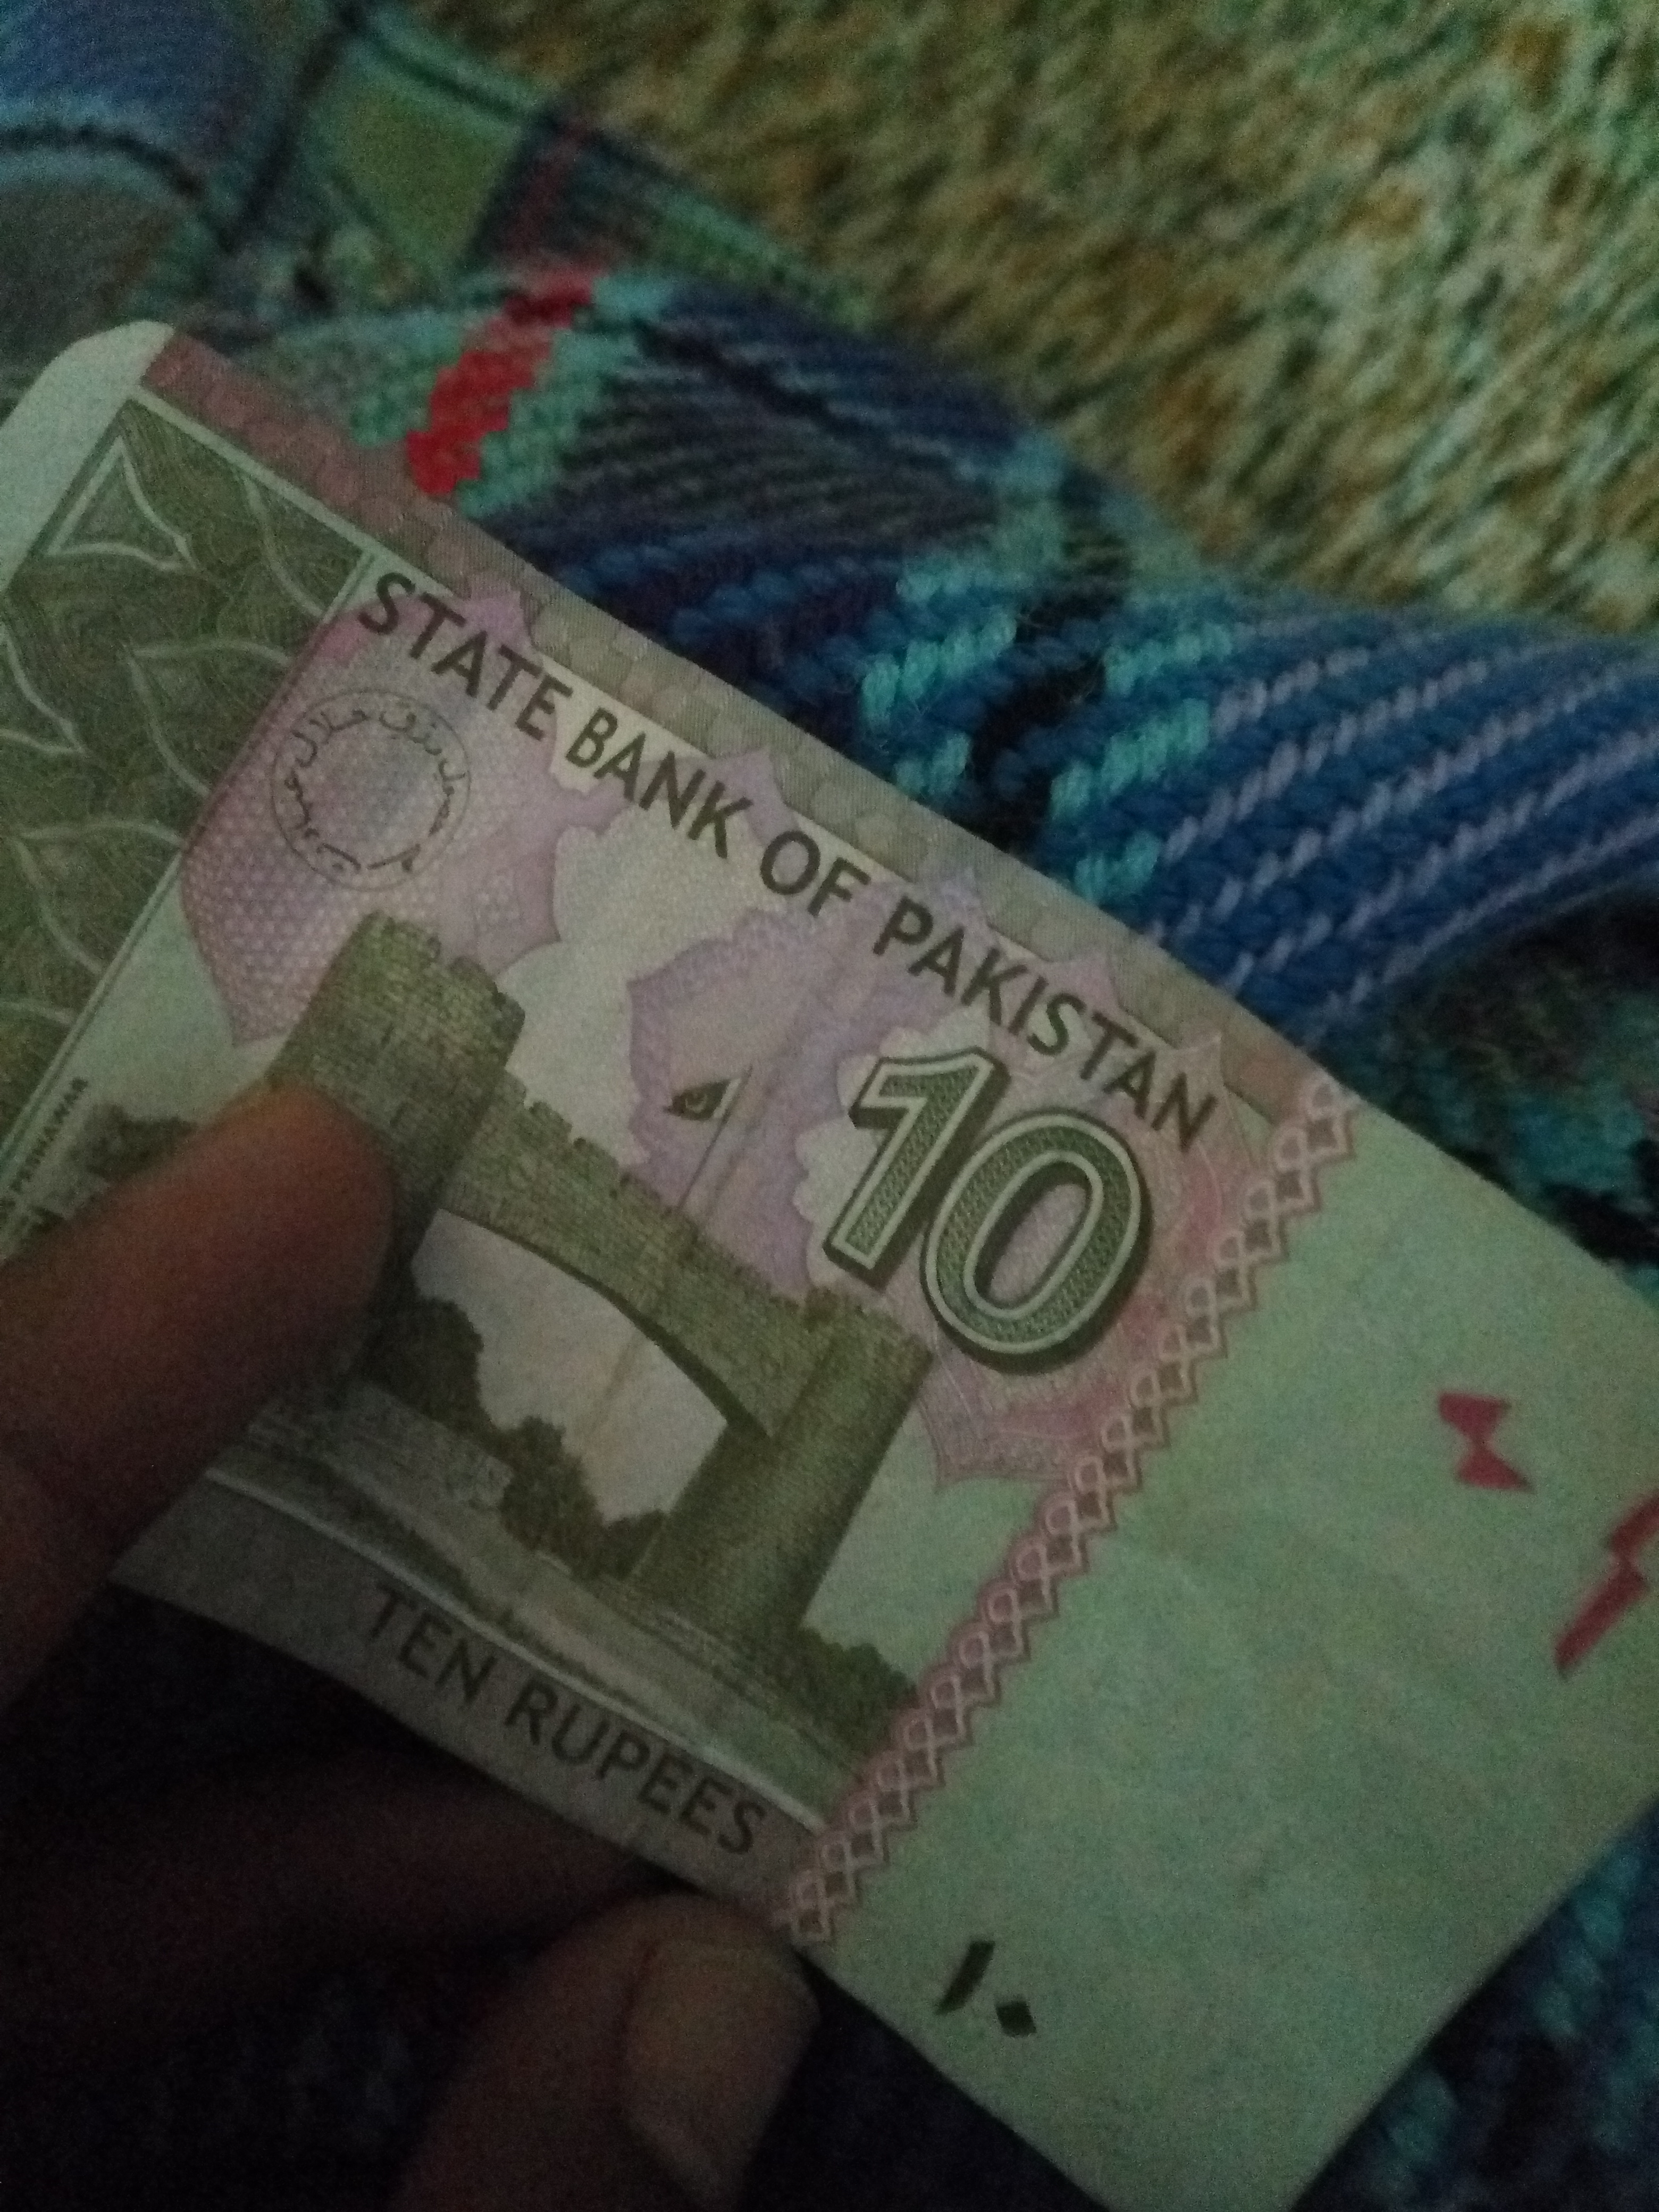10 rupee: (10, 320, 1659, 2179)
